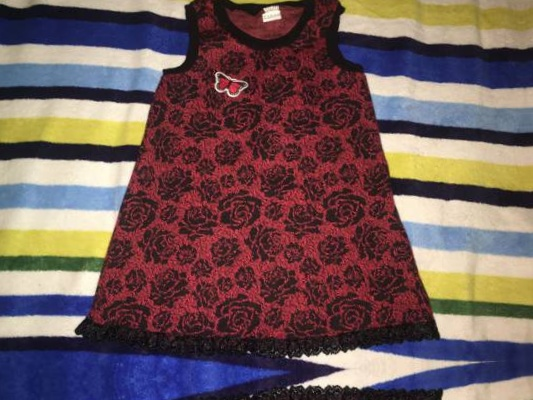Dress: (43, 0, 438, 371), (64, 378, 459, 400)
